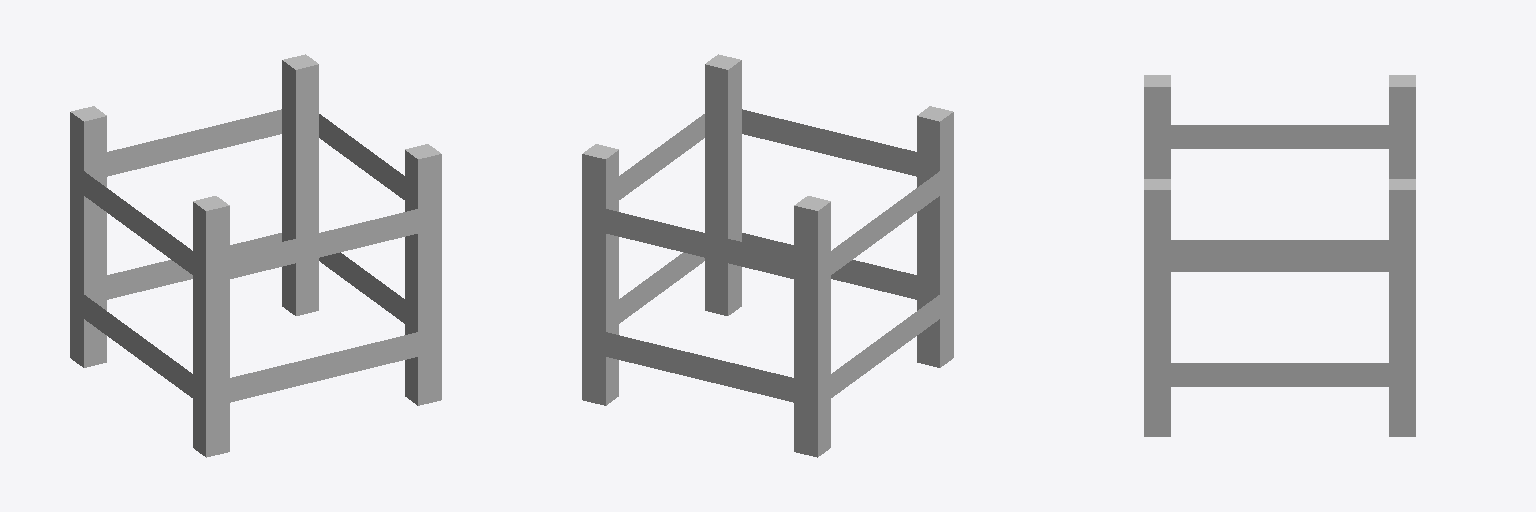
File: structure.obj
3 views of the same model, side by side, from view 1: azimuth 30°, elevation 25°; view 2: azimuth 150°, elevation 25°; view 3: azimuth 270°, elevation 25° (orthographic).
Visible parts, largest first — view 1: structure; view 2: structure; view 3: structure.
Boxes of the visible parts, x1,y1,x2,y2 form: structure: [70, 54, 441, 457]; structure: [582, 54, 953, 457]; structure: [1144, 75, 1415, 436].
Bounding box in the file's own units: 1 × 1 × 1.